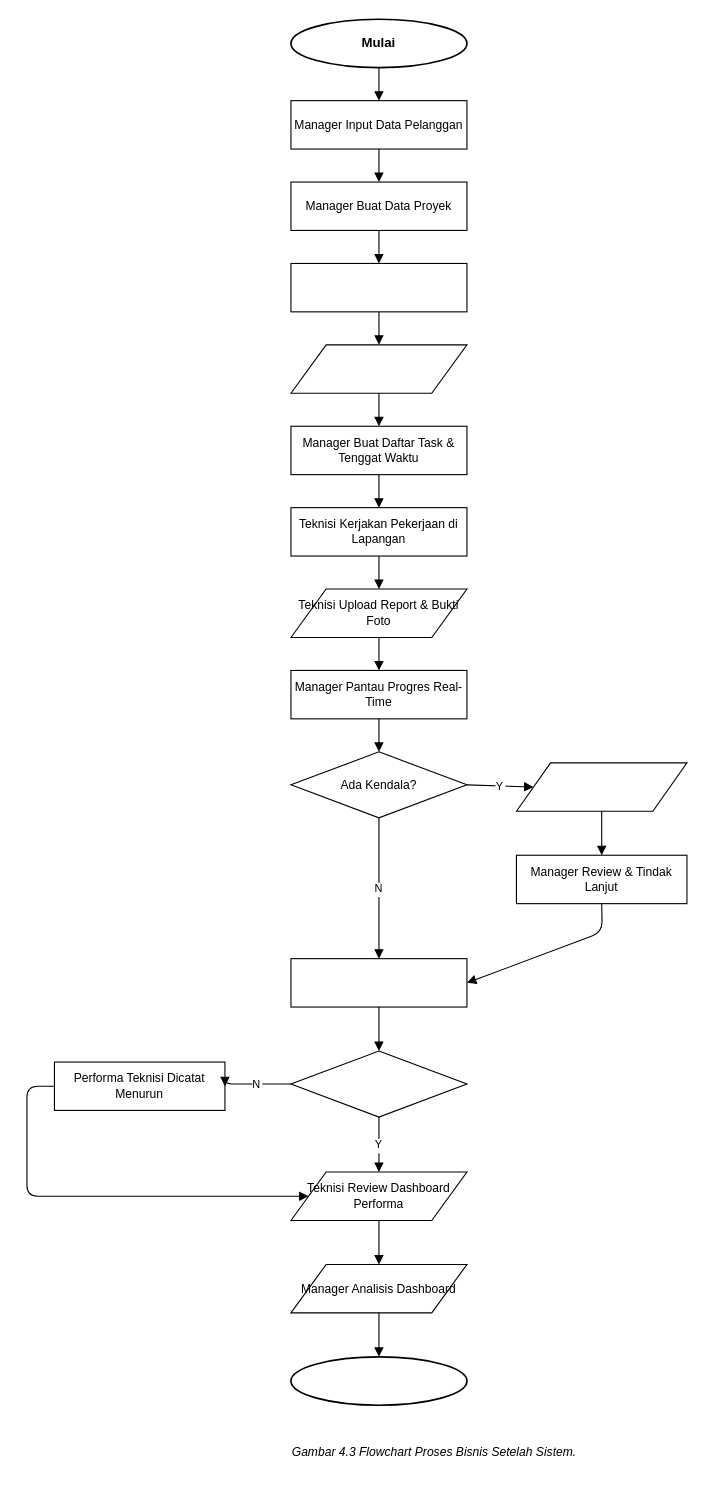
Image size: 706x1488. Some labels were removed from this diagram. Each missing label, with the box of its shape:
Health Status Aman?: (290, 1050, 467, 1117)
Manager Buat Jadwal & Alokasikan Teknisi: (290, 262, 467, 312)
Selesai: (290, 1356, 467, 1406)
Teknisi Ajukan Eskalasi: (515, 762, 687, 811)
Teknisi Lihat Task Real-Time: (290, 344, 467, 393)
Teknisi Selesaikan & Report Hasil: (290, 958, 467, 1007)
